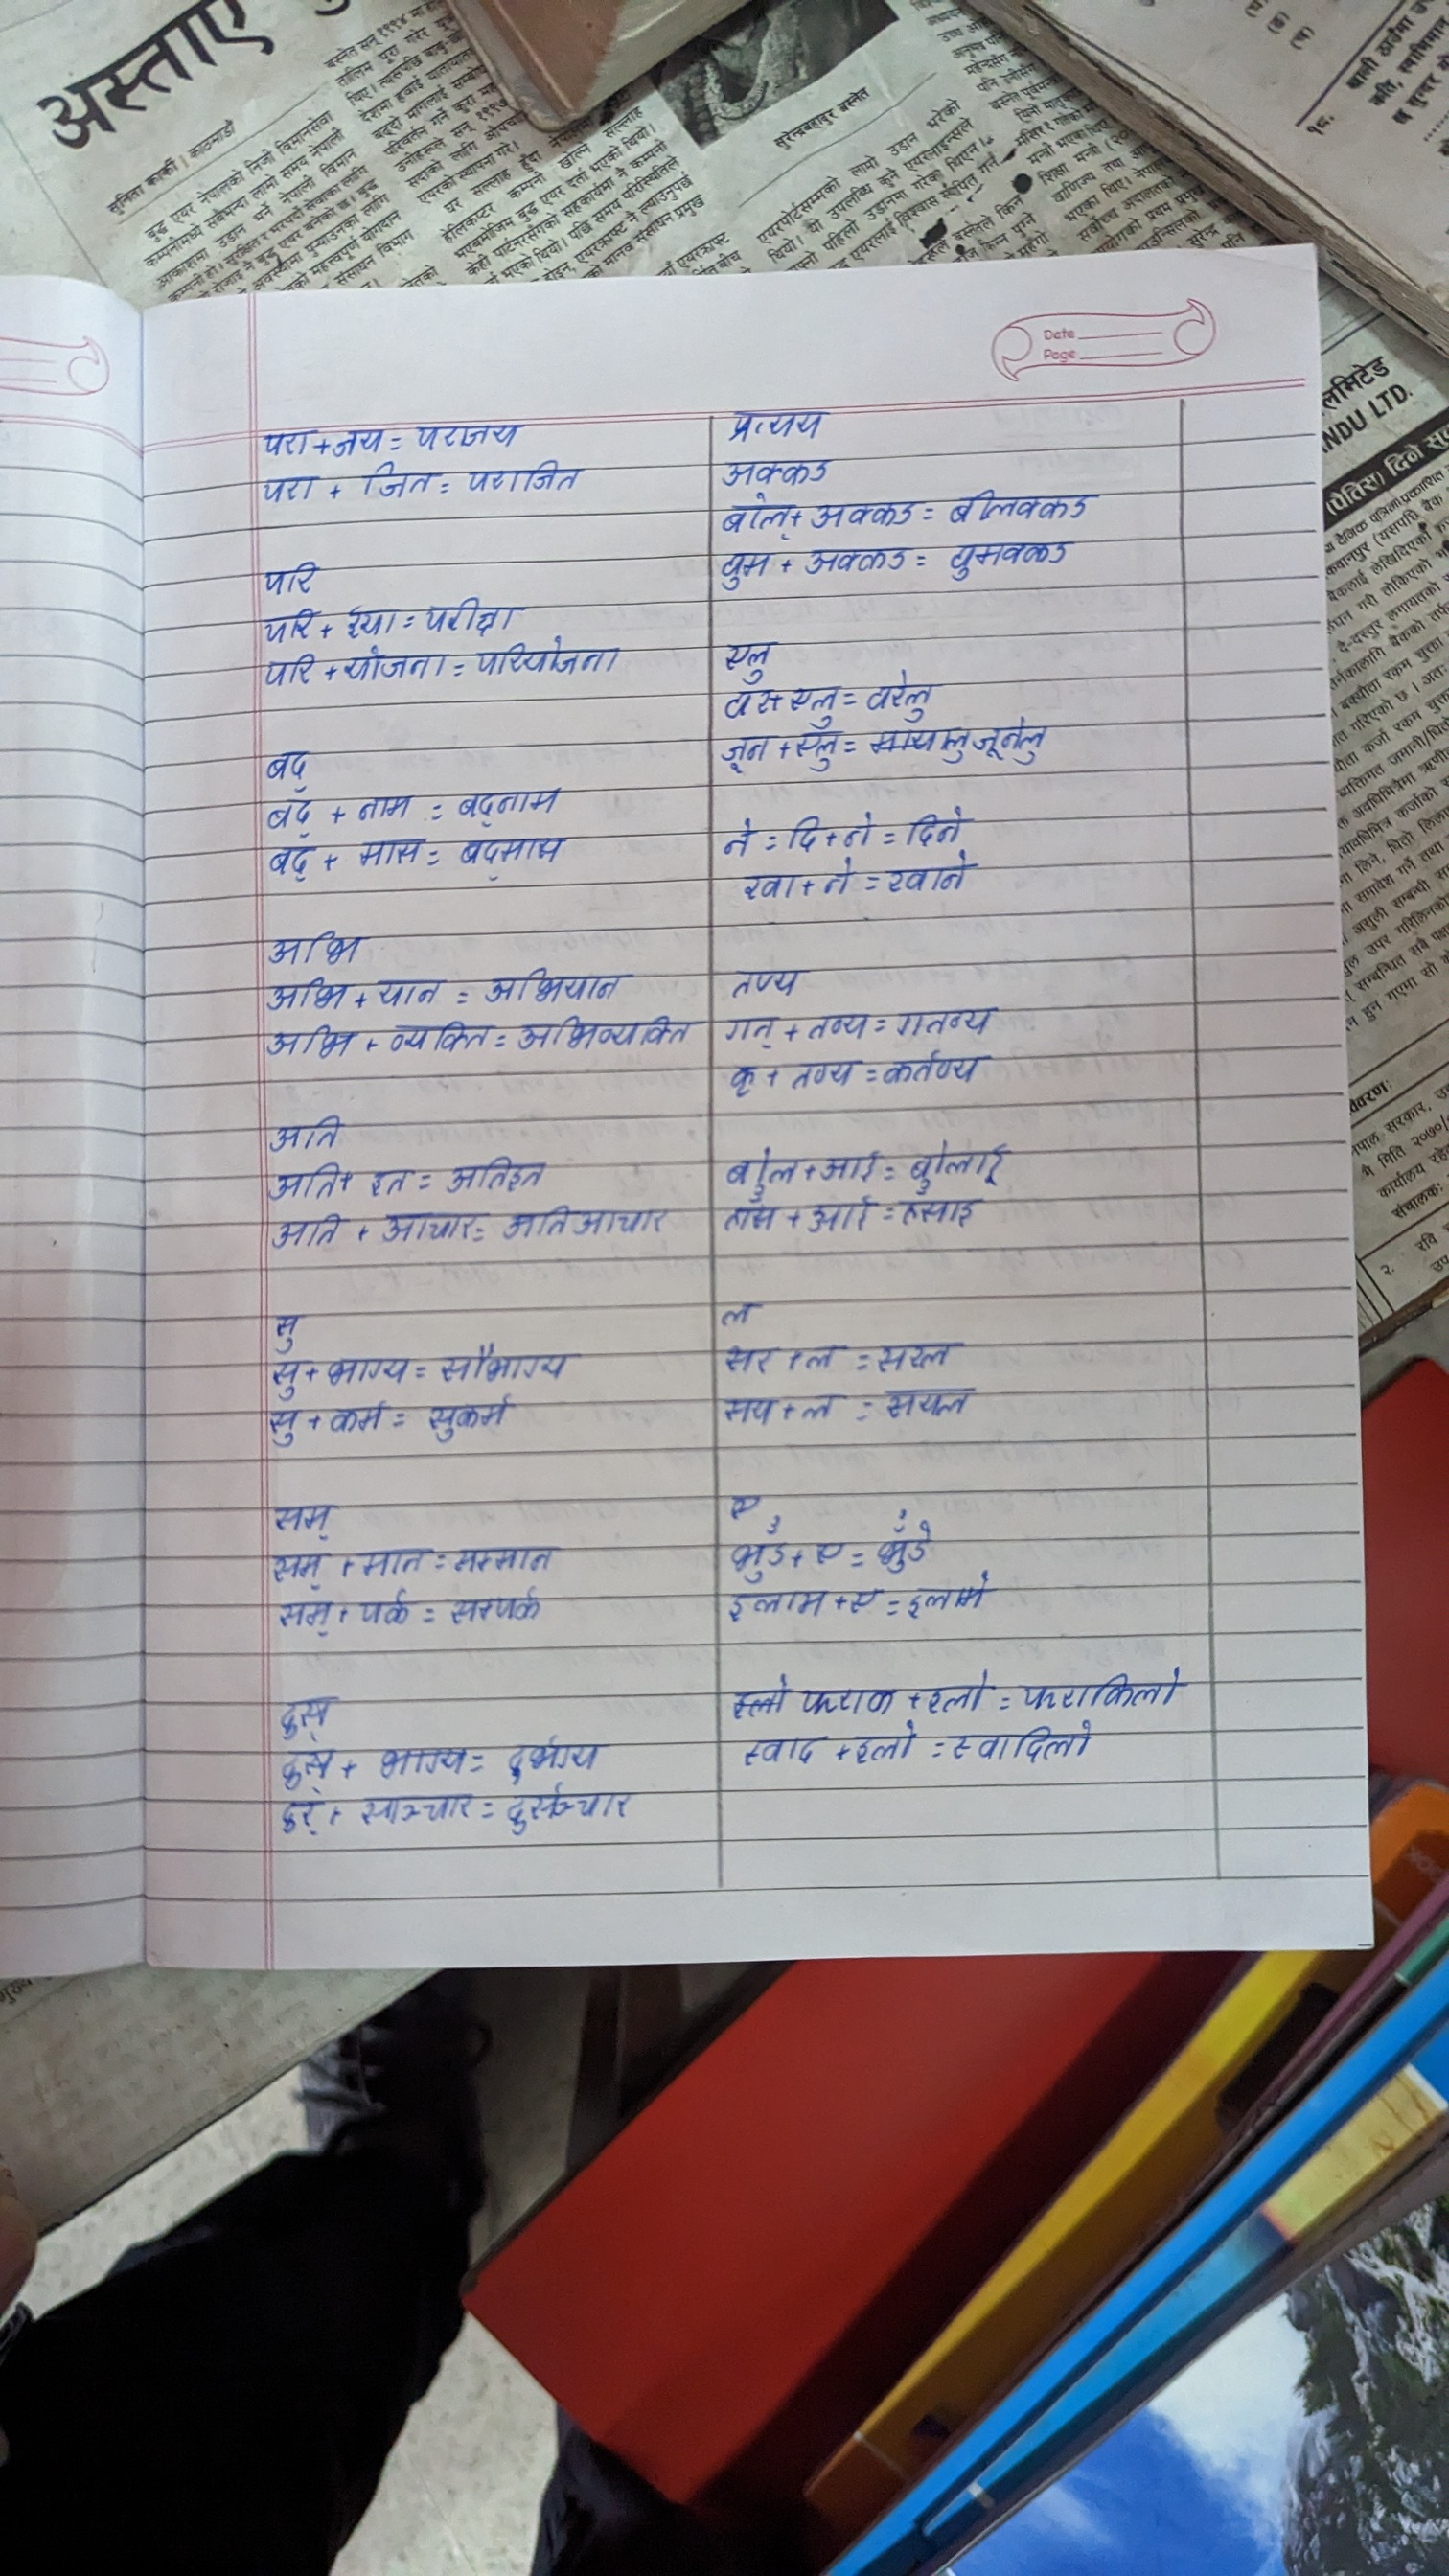text: (1014, 1665, 1191, 1711), (433, 1332, 577, 1387), (501, 1200, 669, 1246), (943, 1723, 1102, 1771), (517, 1014, 699, 1053), (506, 1783, 639, 1835), (938, 536, 1086, 579), (467, 639, 619, 679), (501, 1730, 619, 1780), (901, 1134, 1014, 1185), (449, 1536, 573, 1582), (485, 968, 625, 1008), (941, 487, 1100, 522), (869, 1502, 943, 1573), (258, 922, 372, 966), (449, 780, 577, 819), (419, 1394, 518, 1444), (874, 1384, 980, 1428), (458, 833, 568, 876), (382, 1016, 492, 1058), (373, 1736, 474, 1782), (971, 713, 1054, 768), (890, 1001, 1007, 1040), (720, 402, 832, 442), (446, 1587, 552, 1629), (444, 1150, 548, 1192), (405, 419, 525, 455), (419, 593, 515, 637), (885, 853, 975, 899), (359, 1790, 476, 1826), (858, 665, 936, 718), (738, 1730, 830, 1775), (260, 1109, 347, 1155), (271, 1686, 343, 1741), (718, 1141, 801, 1189), (897, 796, 977, 846), (462, 462, 582, 494), (801, 541, 909, 577), (784, 809, 878, 849), (878, 1051, 984, 1086), (902, 1576, 991, 1619), (796, 1679, 897, 1716), (717, 456, 833, 488), (341, 648, 446, 683), (847, 1721, 922, 1771), (262, 1493, 341, 1539), (255, 554, 340, 596), (324, 1350, 416, 1389), (375, 1207, 481, 1240), (718, 492, 794, 538), (264, 1023, 357, 1060), (872, 1336, 966, 1373), (810, 497, 918, 527), (725, 1591, 832, 1621), (718, 626, 780, 678), (922, 1665, 991, 1711), (727, 955, 798, 1000), (357, 1541, 433, 1582), (713, 548, 777, 596), (264, 977, 354, 1010), (893, 1194, 984, 1228), (267, 1212, 347, 1249), (717, 731, 778, 778), (269, 1159, 341, 1200), (812, 1191, 878, 1235), (260, 837, 324, 881), (731, 1534, 787, 1583), (274, 1746, 341, 1787), (327, 1396, 393, 1437), (264, 1545, 329, 1585), (736, 867, 801, 908), (807, 1007, 872, 1047), (260, 740, 322, 782), (354, 833, 428, 869), (274, 1792, 327, 1842), (260, 1304, 315, 1352), (356, 1585, 412, 1631), (786, 679, 846, 722), (375, 971, 442, 1008), (809, 1146, 881, 1180), (720, 1012, 786, 1049), (272, 1598, 336, 1635), (354, 787, 419, 823), (334, 416, 387, 458), (262, 603, 318, 642), (363, 464, 435, 494), (791, 727, 844, 768), (722, 1338, 777, 1376), (718, 810, 759, 862), (265, 791, 318, 830), (791, 1058, 855, 1090), (257, 425, 317, 458), (260, 1359, 311, 1398), (265, 651, 318, 688), (722, 1203, 784, 1235), (722, 1389, 775, 1426), (796, 1387, 846, 1426), (368, 1159, 416, 1198), (262, 474, 327, 502), (265, 1407, 310, 1447), (819, 858, 858, 904), (805, 1532, 849, 1571), (722, 685, 778, 715), (345, 607, 393, 642), (722, 1484, 766, 1522), (715, 1292, 763, 1323), (731, 1062, 764, 1102), (801, 1338, 839, 1373), (849, 1583, 885, 1621)
